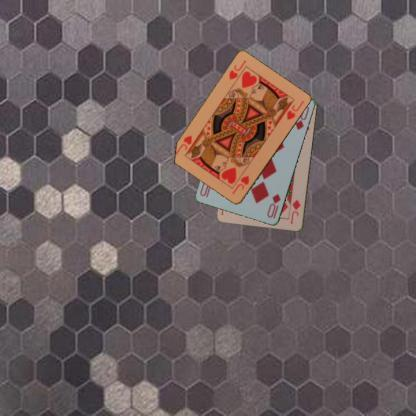10d: (264, 191, 283, 221)
Jd: (288, 196, 302, 226)
Jh: (226, 57, 247, 82), (229, 173, 251, 196)
